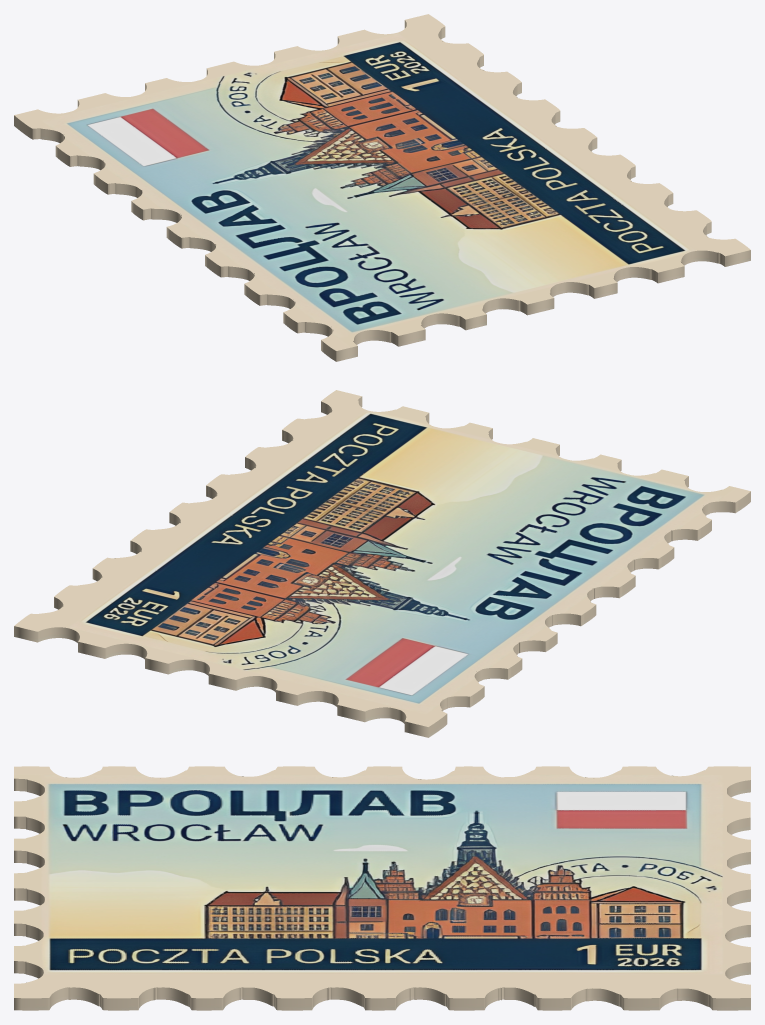
File: Card_Vrozlav.glb
3 views of the same model, one above another, from view 1: azimuth 30°, elevation 25°; view 2: azimuth 150°, elevation 25°; view 3: azimuth 270°, elevation 25° (orthographic). The views are drawn at different scales.
Visible parts, largest first — view 1: Curve; view 2: Curve; view 3: Curve.
Part boxes in pixels (x1,y1,x2,y2): Curve: [14, 14, 750, 361]; Curve: [14, 390, 750, 737]; Curve: [14, 766, 750, 1010].
Bounding box in the file's own units: 124 × 3.07 × 167.
Materials: 1 (1 with a texture image).
